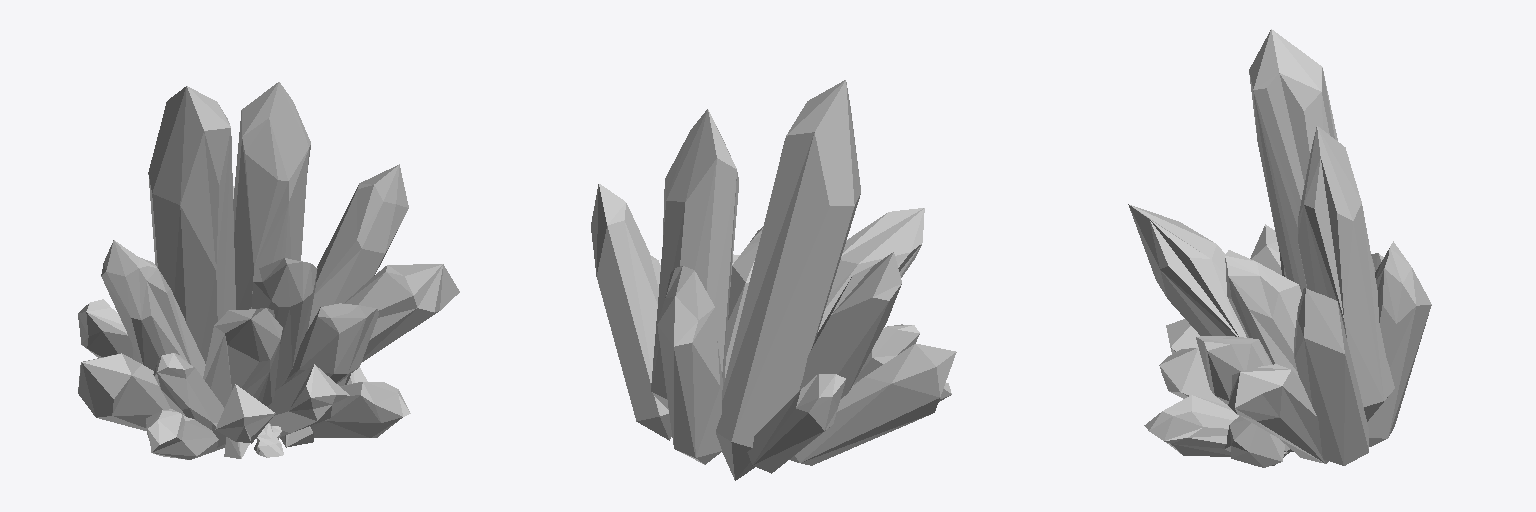
File: crystal_17_2.obj
3 renders of one model, left to right at view 1: azimuth 30°, elevation 25°; view 2: azimuth 150°, elevation 25°; view 3: azimuth 270°, elevation 25°, orthographic.
Visible parts, largest first — view 1: crystal_17_2; view 2: crystal_17_2; view 3: crystal_17_2.
Part boxes in pixels (x1,y1,x2,y2): crystal_17_2: (78,82,459,459); crystal_17_2: (591,80,956,480); crystal_17_2: (1128,29,1431,467).
Bounding box in the file's own units: 0.0515 × 0.0518 × 0.0373.